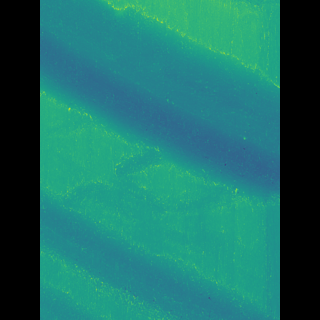Loch: (69, 0, 250, 205), (69, 183, 245, 320)
